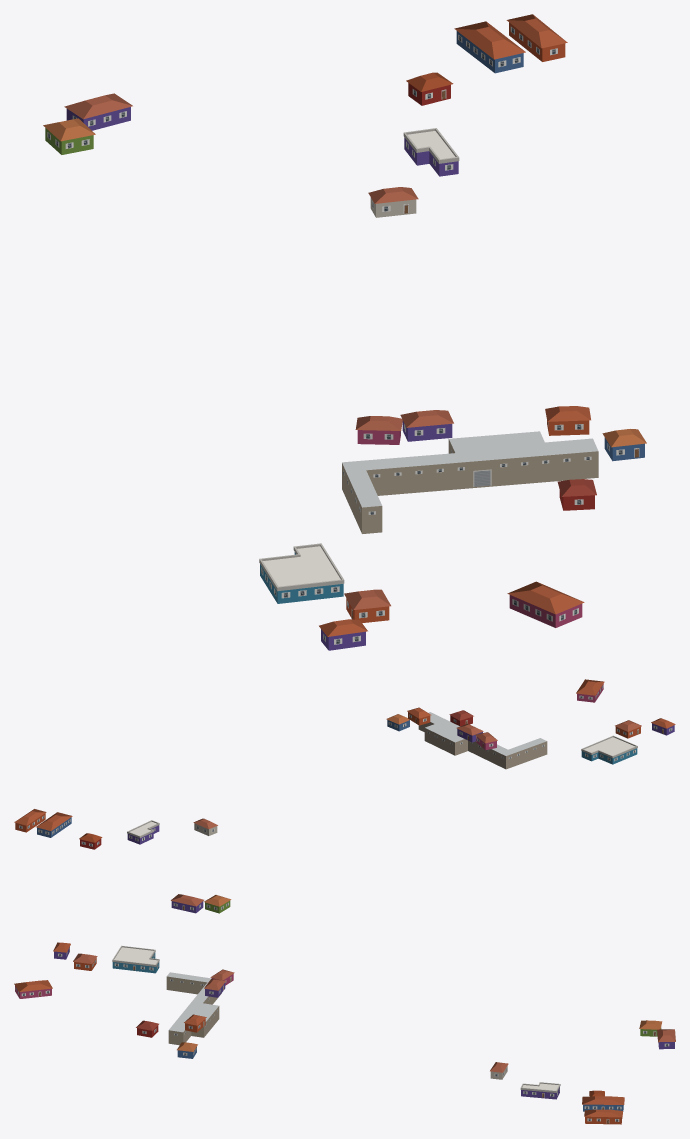
Rendered from msb_palmbeach_m21_m15.glb.
The picture shows the model from 3 angles, top to bottom: view 1: azimuth 30°, elevation 25°; view 2: azimuth 150°, elevation 25°; view 3: azimuth 270°, elevation 25°; orthographic projection. The views are drawn at different scales.
Parts seen in each view (by area): view 1: msb_palmbeach_m21_m15_lod0; view 2: msb_palmbeach_m21_m15_lod0; view 3: msb_palmbeach_m21_m15_lod0.
Boxes of the visible parts, x1=… form: msb_palmbeach_m21_m15_lod0: x1=43, y1=14, x2=646, y2=650; msb_palmbeach_m21_m15_lod0: x1=14, y1=679, x2=675, y2=913; msb_palmbeach_m21_m15_lod0: x1=14, y1=942, x2=675, y2=1124.
Size of what is drawn, in the model's own units: 189 by 15.34 by 281.
Materials: 3 (1 with a texture image).
